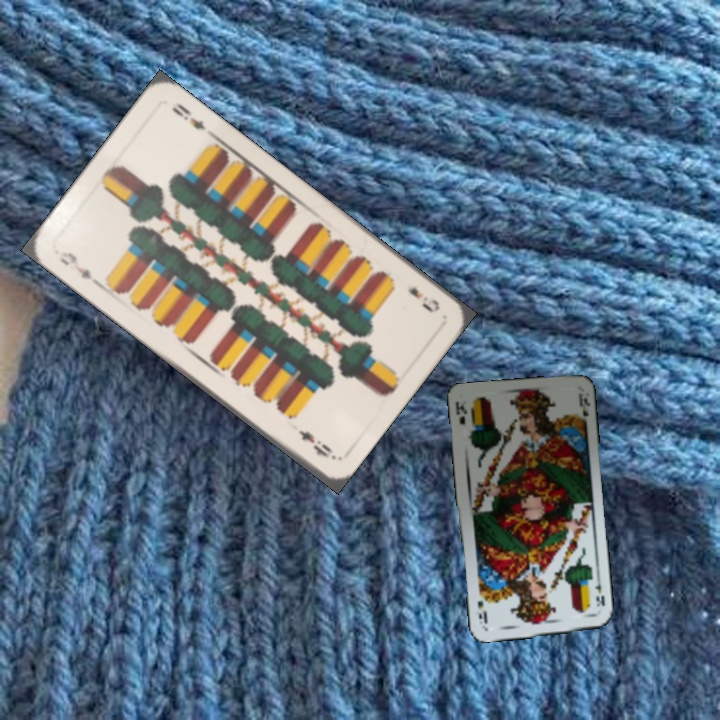E9: (55, 247, 102, 288), (403, 283, 443, 316)
EK: (591, 575, 607, 609), (452, 398, 469, 427)
